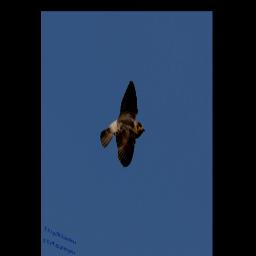Swallow: (98, 68, 151, 176)
